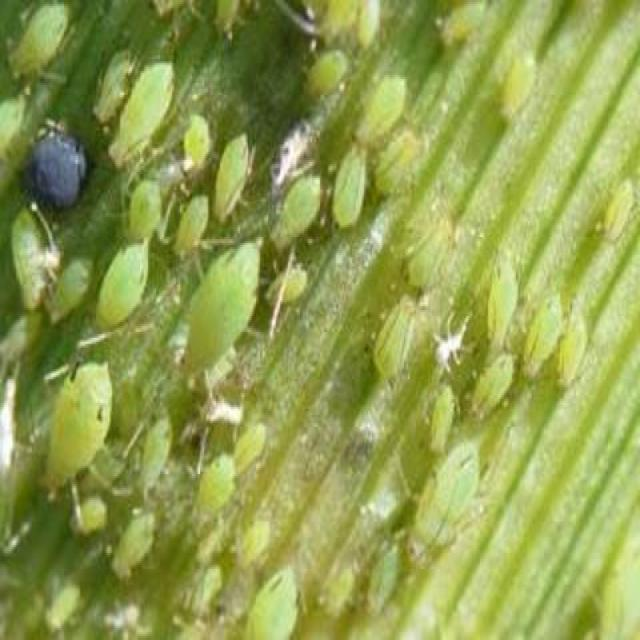Aphid-Grouped-: (5, 1, 592, 617)
Aphid-Grown-: (171, 226, 280, 394), (33, 352, 126, 511), (407, 418, 493, 588), (101, 54, 181, 178), (360, 270, 426, 400), (86, 231, 164, 339), (480, 34, 550, 136), (460, 343, 530, 441), (207, 120, 264, 234), (322, 134, 383, 238), (482, 237, 532, 359), (265, 166, 325, 260), (167, 176, 218, 273), (130, 406, 180, 500)
